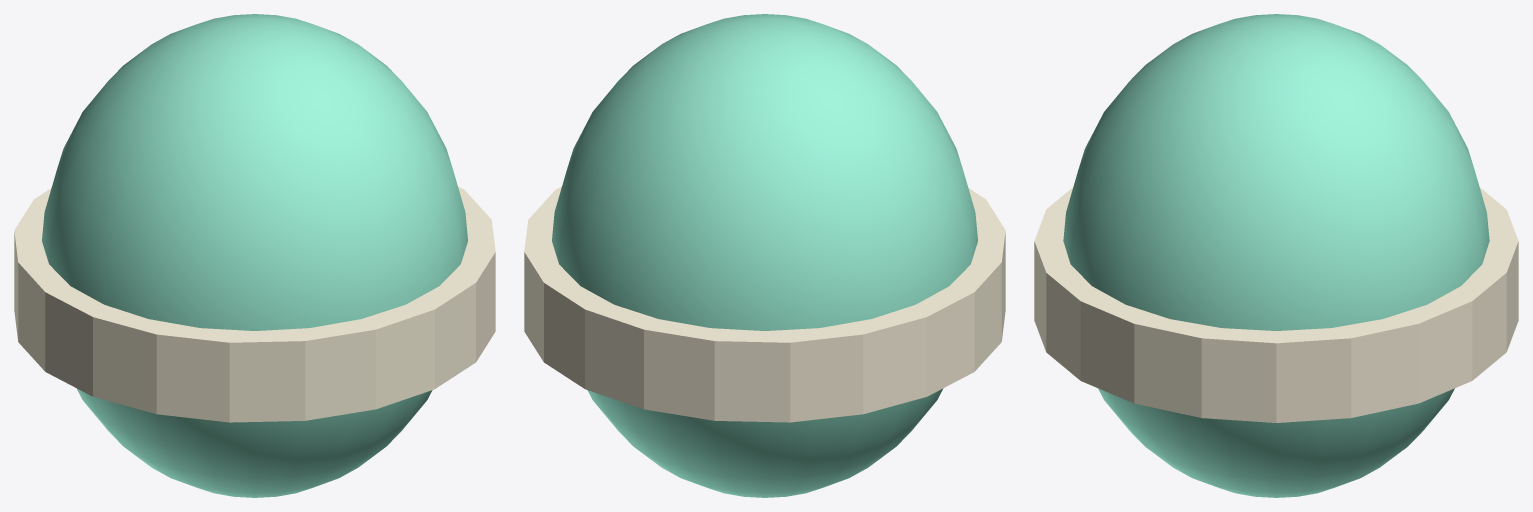
Rendered from core.glb.
The picture shows the model from 3 angles, left to right: view 1: azimuth 30°, elevation 25°; view 2: azimuth 150°, elevation 25°; view 3: azimuth 270°, elevation 25°; orthographic projection.
Parts seen in each view (by area): view 1: Energy, Band; view 2: Energy, Band; view 3: Energy, Band.
Part boxes in pixels (<box>): Energy: <box>42,14,467,497</box>; Band: <box>14,186,495,422</box>; Energy: <box>552,14,977,497</box>; Band: <box>524,186,1005,422</box>; Energy: <box>1063,14,1489,497</box>; Band: <box>1034,187,1518,422</box>.
Size of the model in its own units: 0.88 by 0.9 by 0.88.
